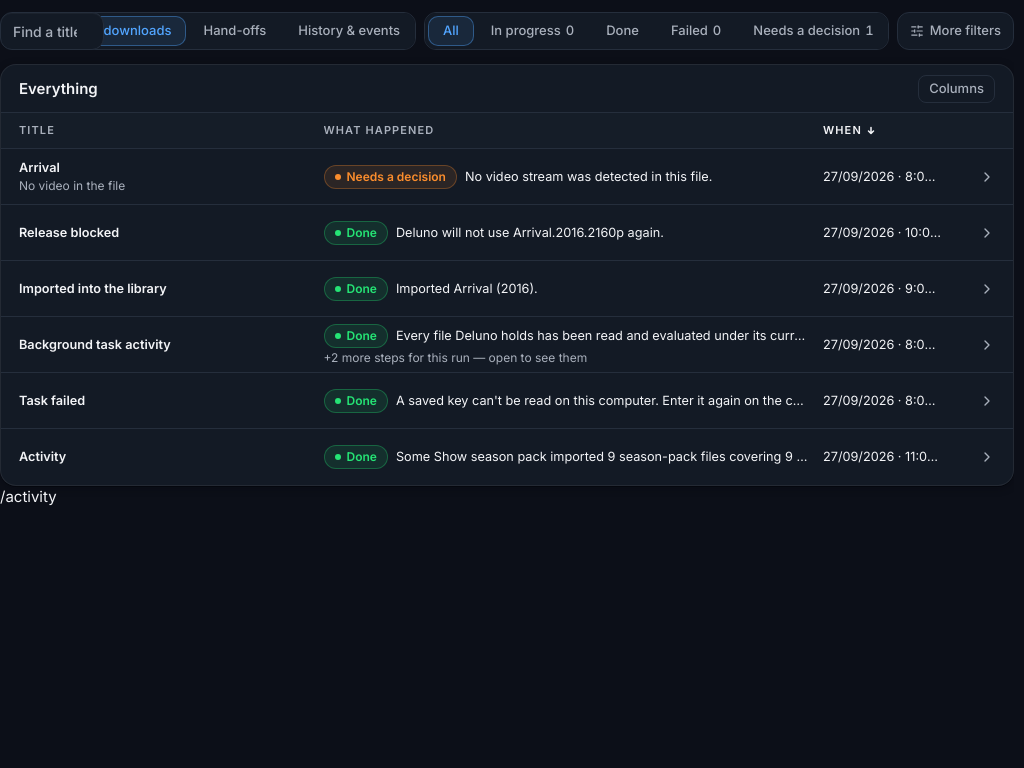
Test: Activity names each kind of event in plain words (#1086) › shows the label in the list and the drawer, never the internal code
Check: the text "Imported into the library" is shown, box [19,281,167,296]
Click the text "Imported Arrival (2016).".
click(467, 289)  # box [396,281,538,296]
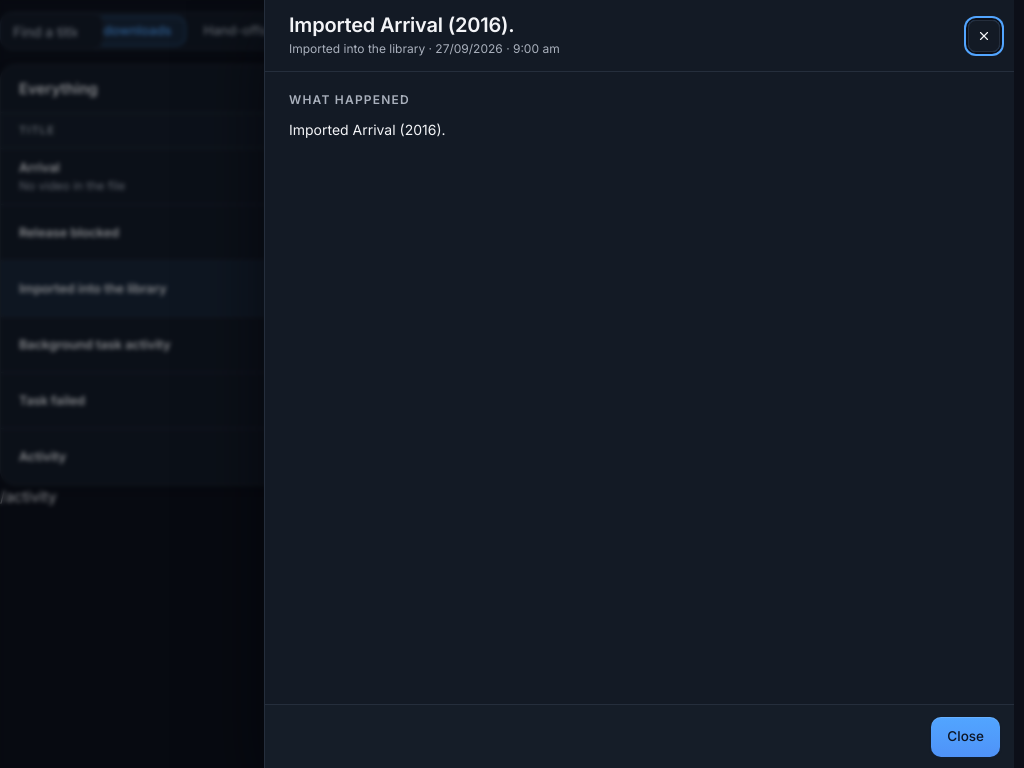
Check: the text "Imported into the library · 27/09/2026 · 9:00 am" is shown, box [289,40,560,58]
